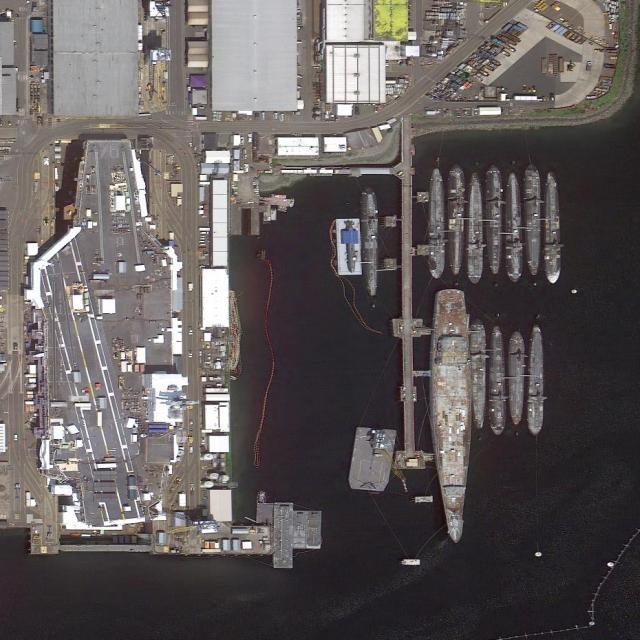Aircraft Carrier: (30, 140, 175, 525)
Dock: (385, 161, 434, 468)
Other Warship: (433, 289, 471, 544)
Submarine: (525, 326, 546, 435), (427, 168, 446, 278), (503, 171, 522, 280), (488, 326, 506, 434), (361, 191, 378, 297), (471, 320, 487, 427), (544, 172, 559, 283), (525, 166, 540, 274), (449, 167, 464, 275), (487, 166, 501, 274), (469, 174, 482, 282), (509, 332, 522, 424), (346, 221, 353, 271)
